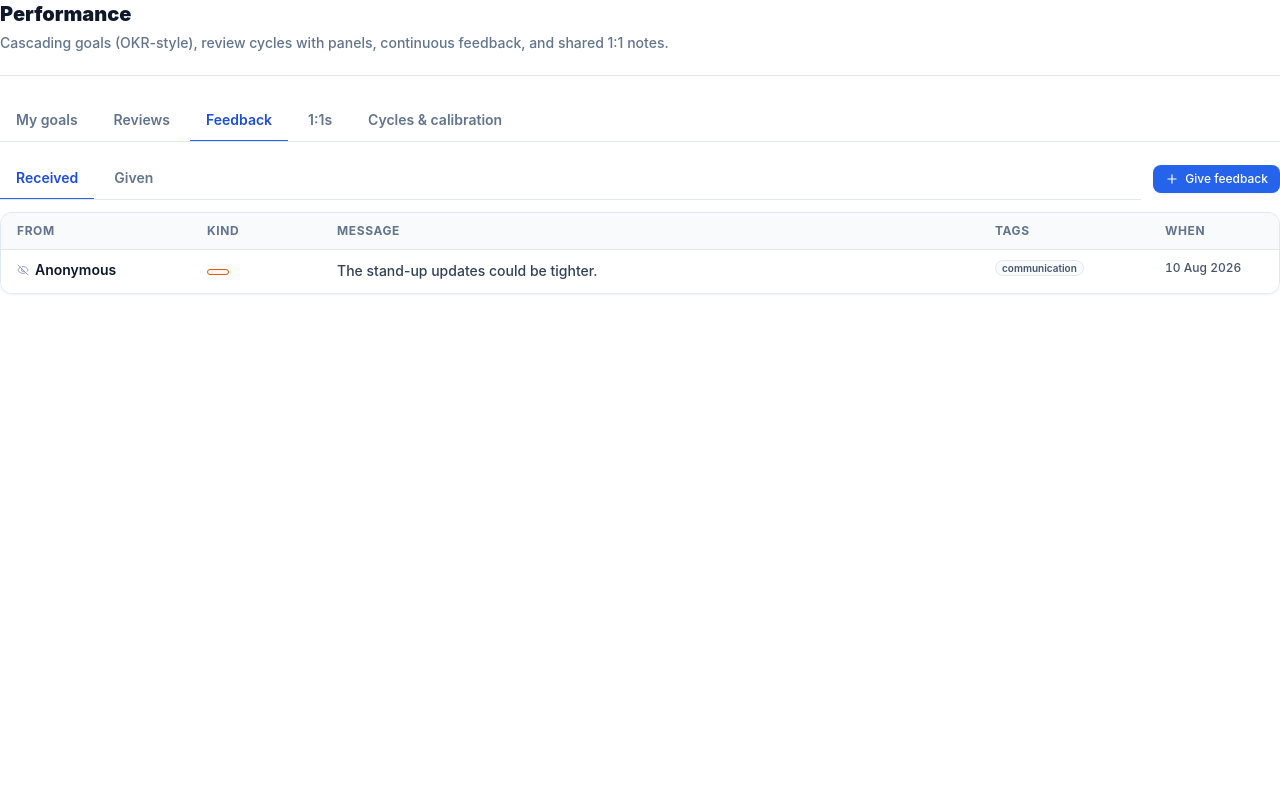
Scenario: feedback › warns what anonymity does and does not hide
Click the button "Give feedback" at (1217,179), box top-left (1153, 165), bottom-right (1279, 193)
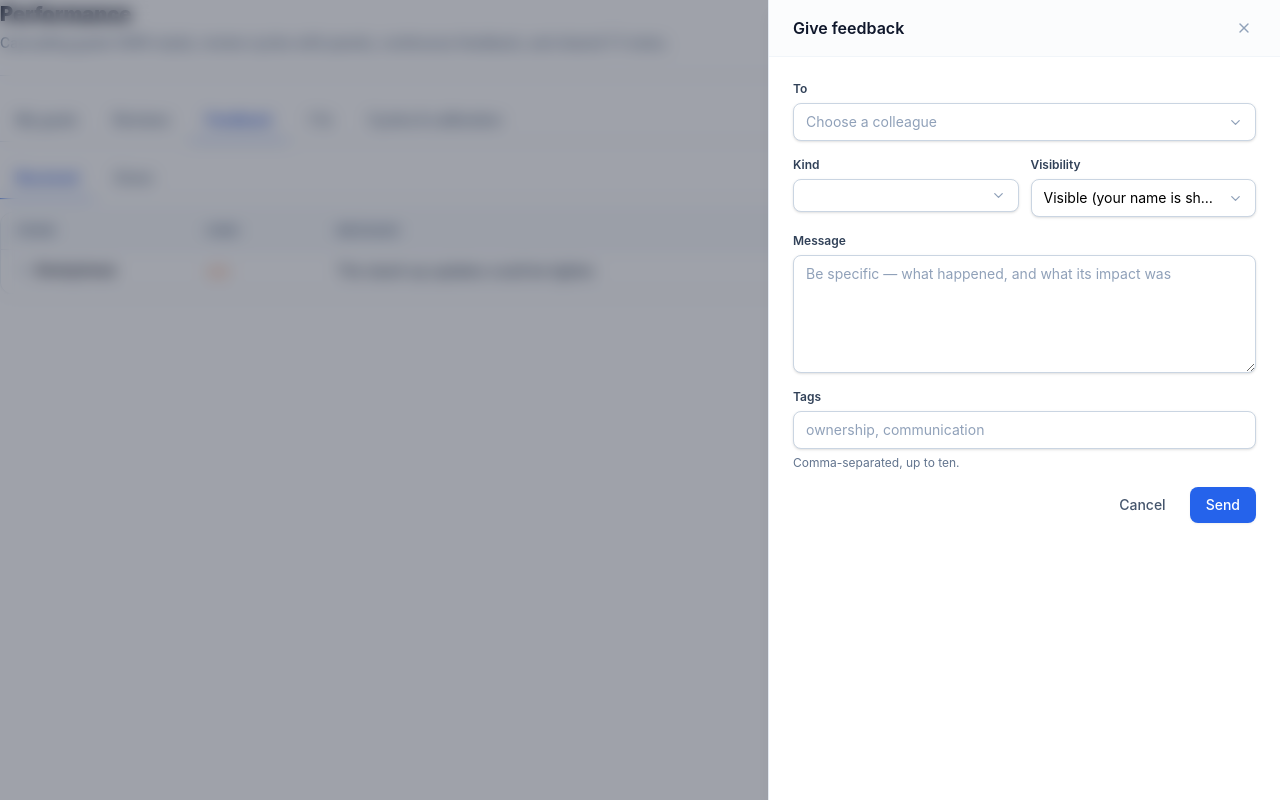
Click the button "Visible (your name is shown)" at (1143,198), box top-left (1030, 179), bottom-right (1256, 217)
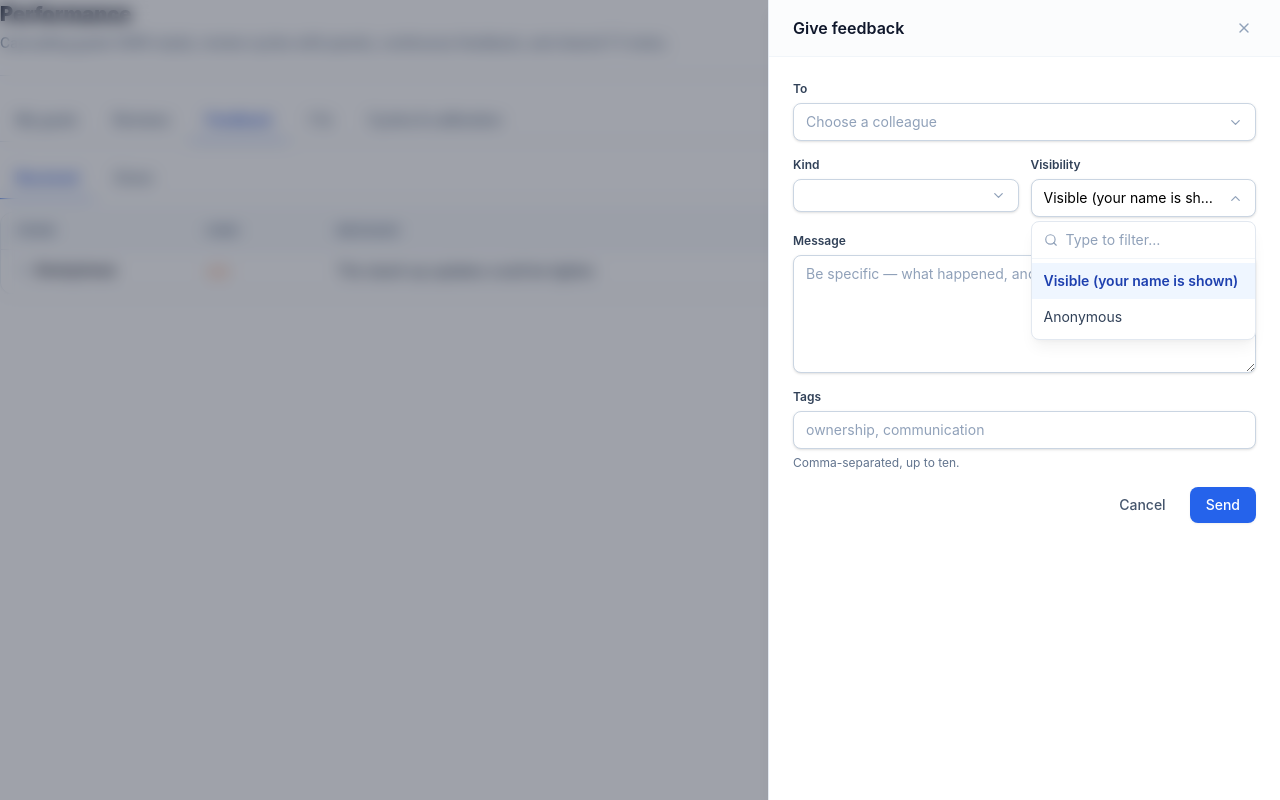
Click the button "Anonymous" at (1143,317), box top-left (1032, 299), bottom-right (1255, 335)
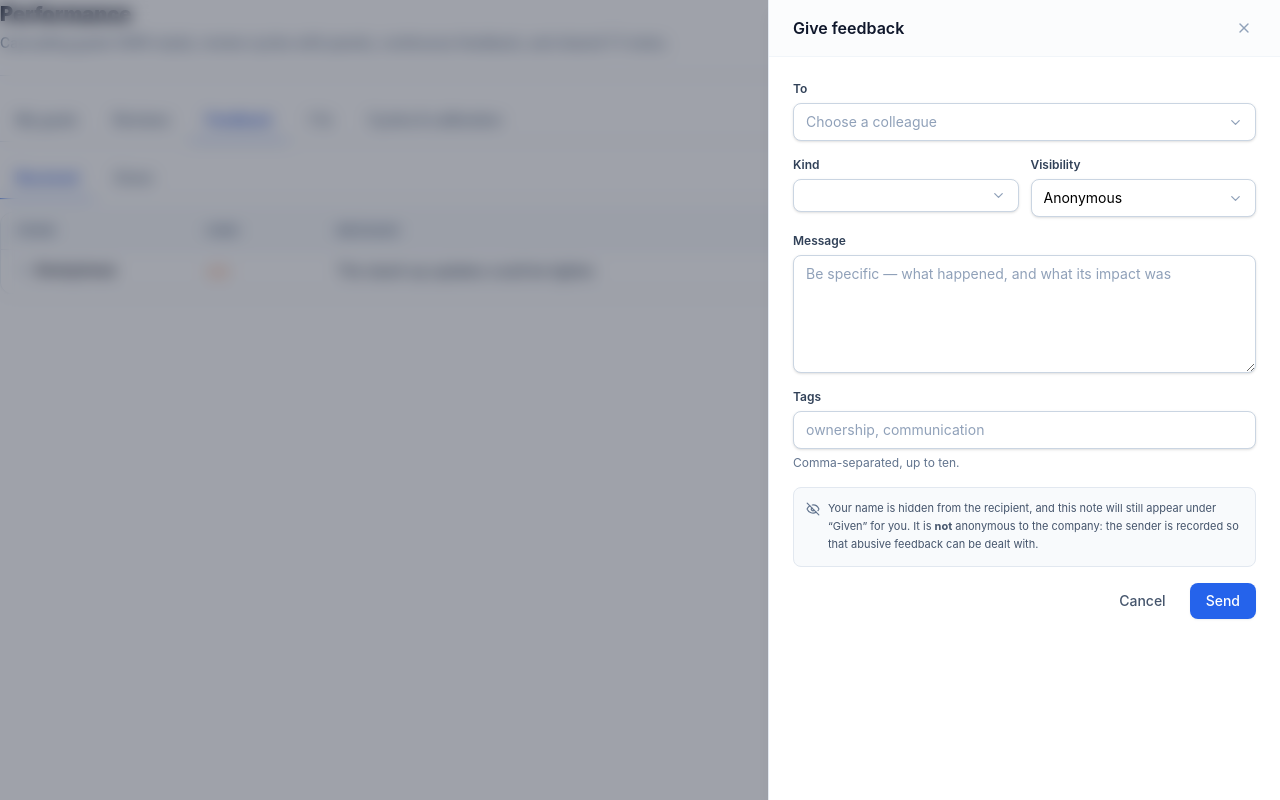
Now the text "anonymous to the company" is shown, box top-left (828, 519), bottom-right (1239, 551)
